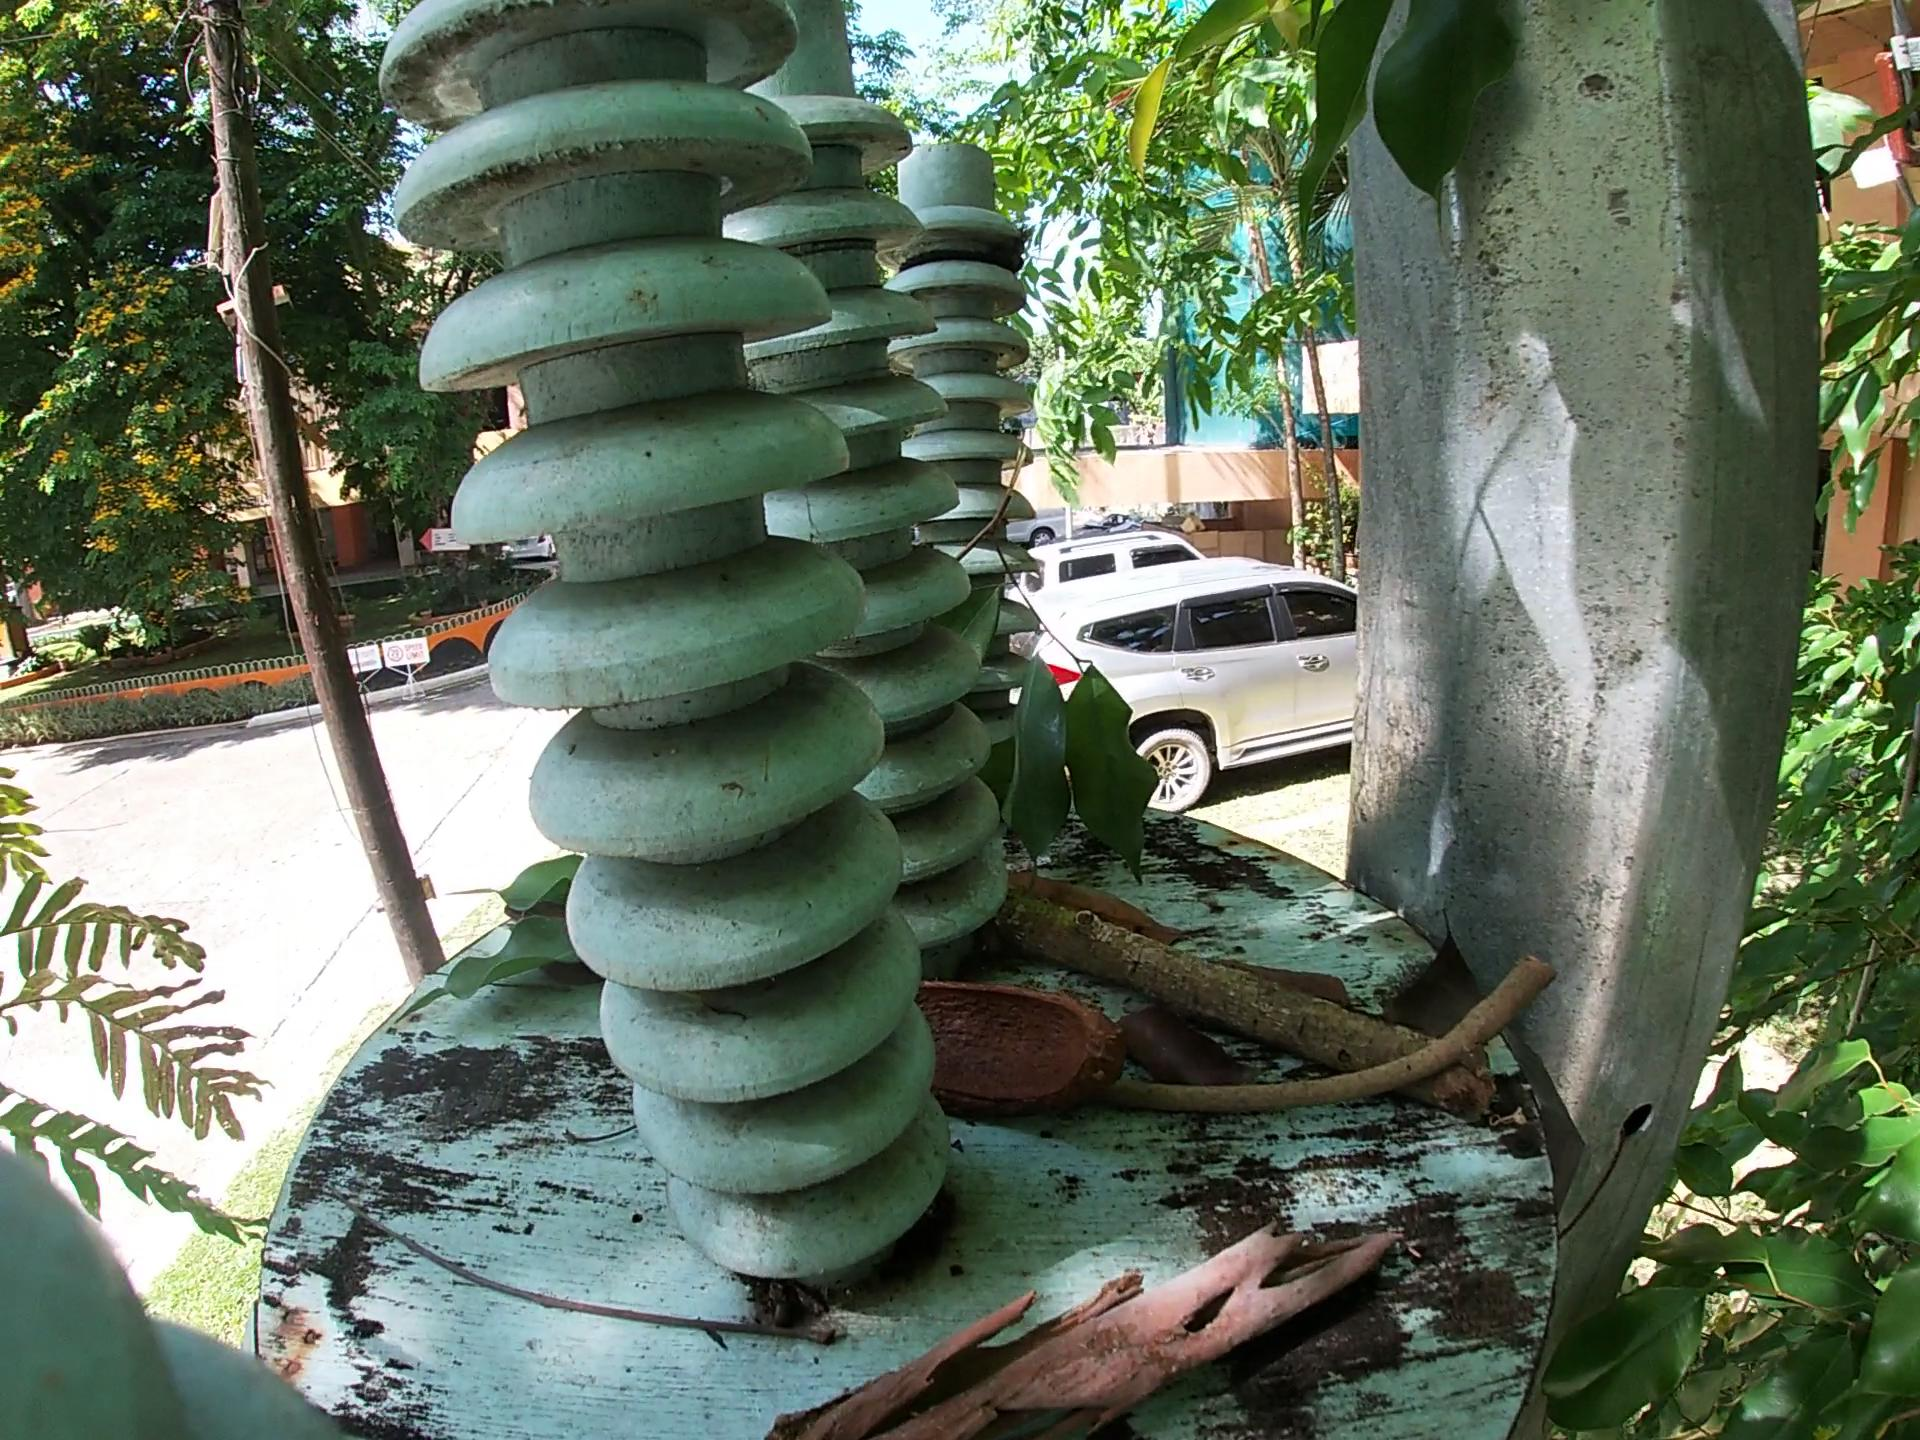branch with leaves: (940, 427, 1184, 900)
leaf: (441, 864, 618, 1004), (1016, 870, 1194, 942), (1117, 1001, 1250, 1082), (1229, 954, 1373, 1010)
mahogany fruit: (898, 964, 1129, 1124)
tree branch: (750, 1218, 1463, 1438), (993, 888, 1498, 1113), (305, 1177, 859, 1355), (1093, 964, 1592, 1137)
